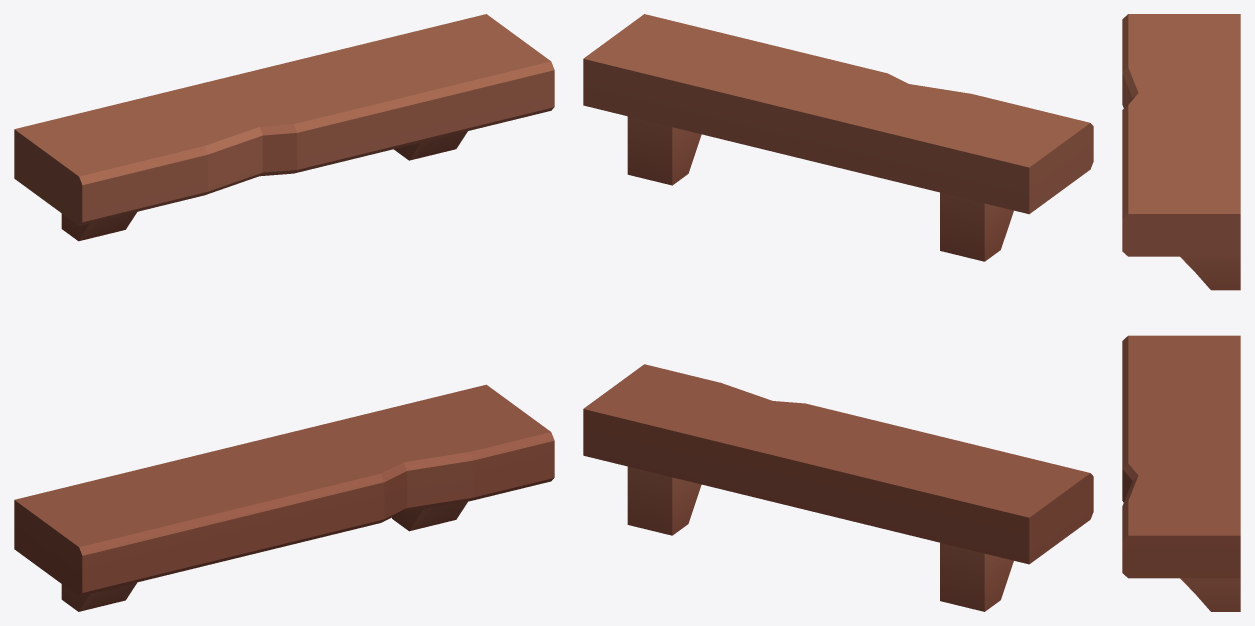
Rendered from dungeon-shelves.glb.
The picture shows the model from 3 angles, left to right: view 1: azimuth 30°, elevation 25°; view 2: azimuth 150°, elevation 25°; view 3: azimuth 270°, elevation 25°; orthographic projection. The views are drawn at different scales.
Parts seen in each view (by area): view 1: dungeon-shelves; view 2: dungeon-shelves; view 3: dungeon-shelves.
Part boxes in pixels (x1,y1,x2,y2): dungeon-shelves: [14, 14, 554, 611]; dungeon-shelves: [583, 14, 1093, 611]; dungeon-shelves: [1122, 14, 1240, 611].
Bounding box in the file's own units: 1.5 × 1.46 × 0.3751.
Materials: 1 (1 with a texture image).
